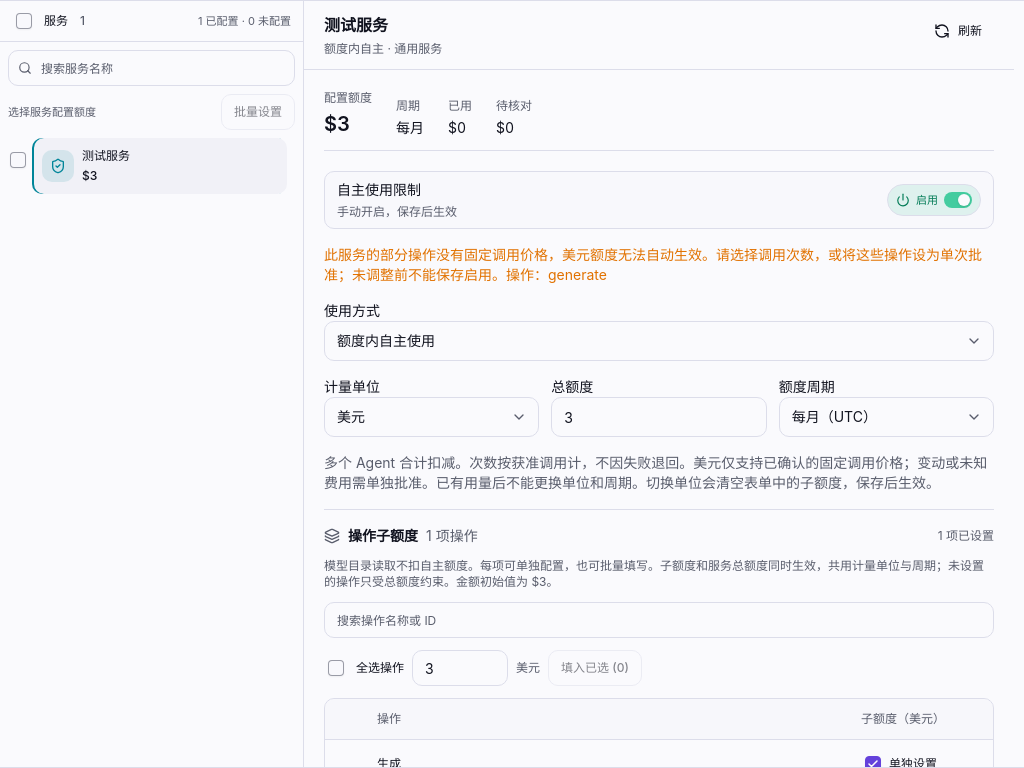
explains unsupported dollar budgets and excludes discovery from sub-budgets
The width and height of the screenshot is (1024, 768).
Check: the text "美元额度无法自动生效" is shown, box [324,246,982,283]
Select "调用次数" in the dropdown labelled "计量单位" at (432,417), box [324,397,539,437]
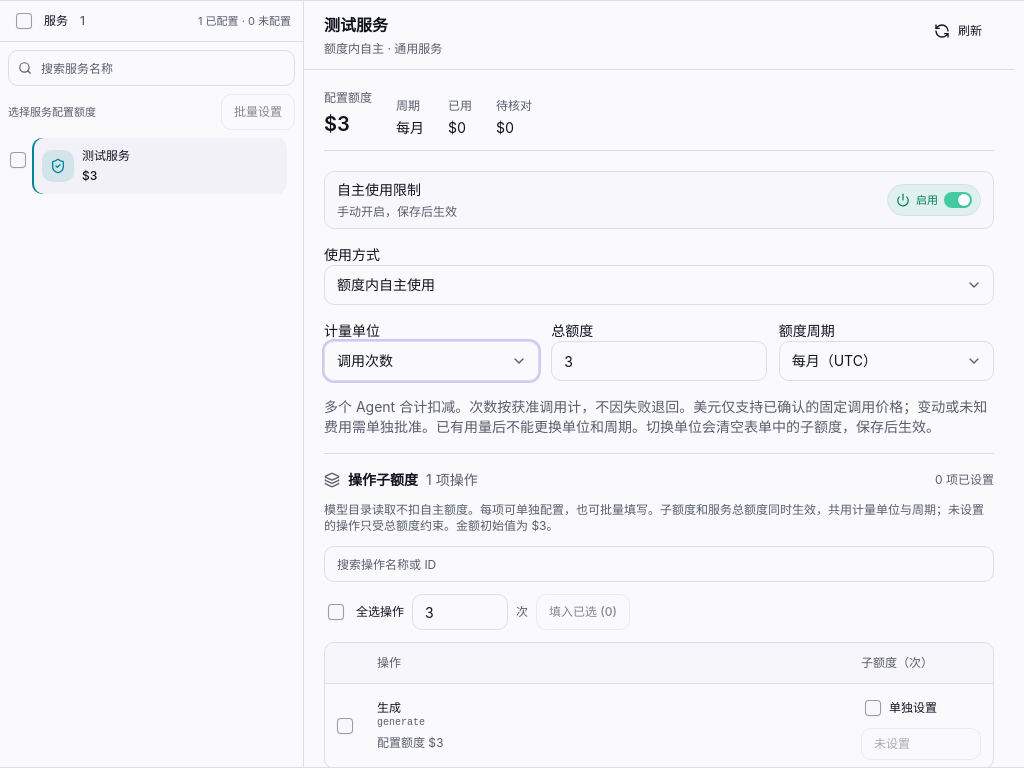
Check: the number field named "generate 子额度" is disabled, box [861,728,981,760]
